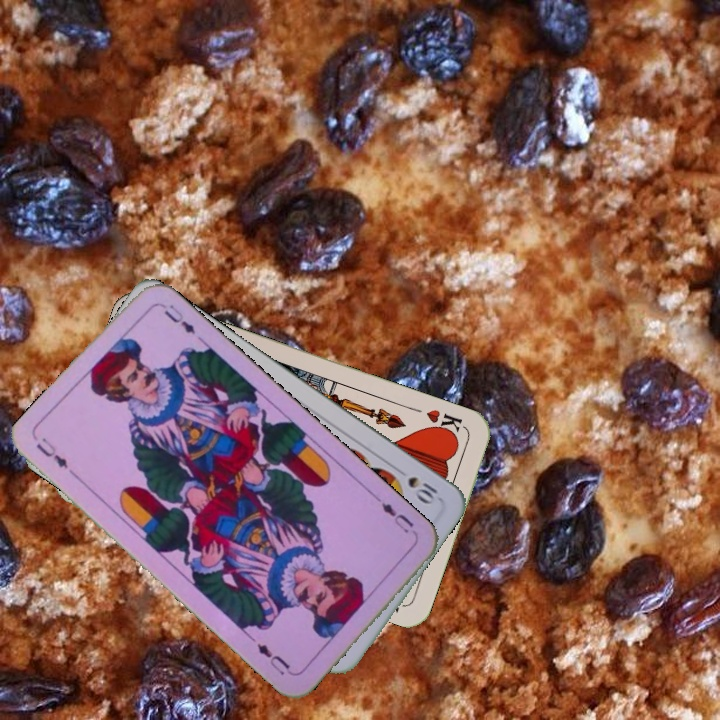EU: (373, 493, 417, 537), (32, 433, 71, 472)
HK: (422, 405, 468, 440)
S10: (391, 463, 441, 507)
